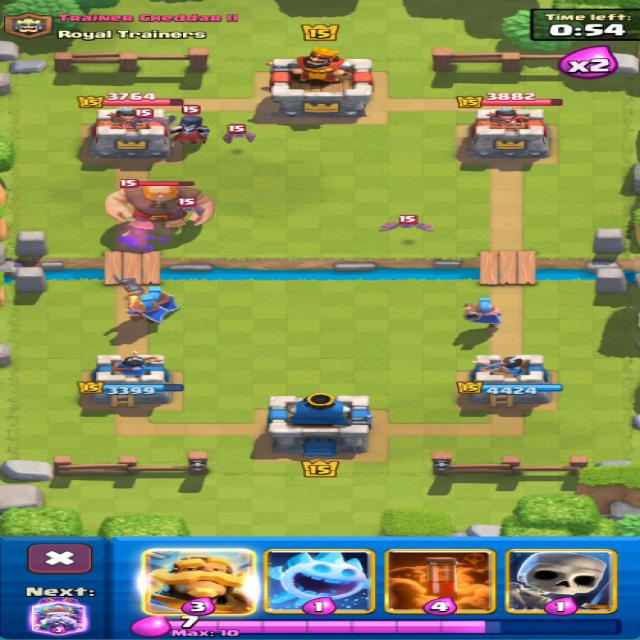Enemy-Bat: (380, 214, 433, 232), (128, 108, 169, 129), (173, 199, 202, 218), (225, 125, 255, 143)
Enemy-Giant: (106, 185, 214, 229)
Enemy-KingTower: (269, 47, 372, 116)
Enemy-NightWitch: (170, 115, 209, 144), (168, 115, 175, 126)
Enemy-PrincessTower: (468, 107, 548, 158), (91, 107, 170, 157)
